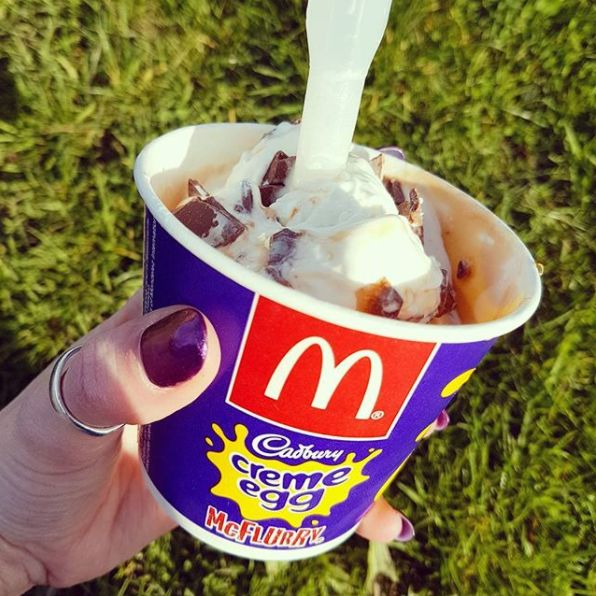mcdonalds: (259, 329, 390, 429)
